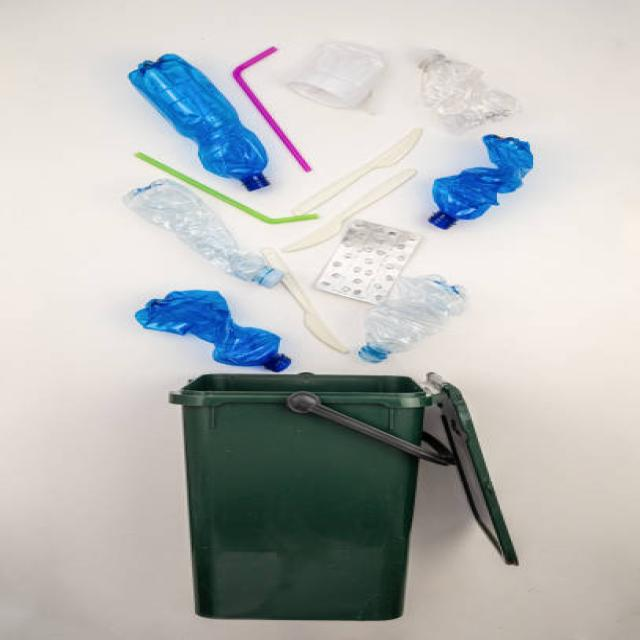plastic: (61, 24, 516, 360)
